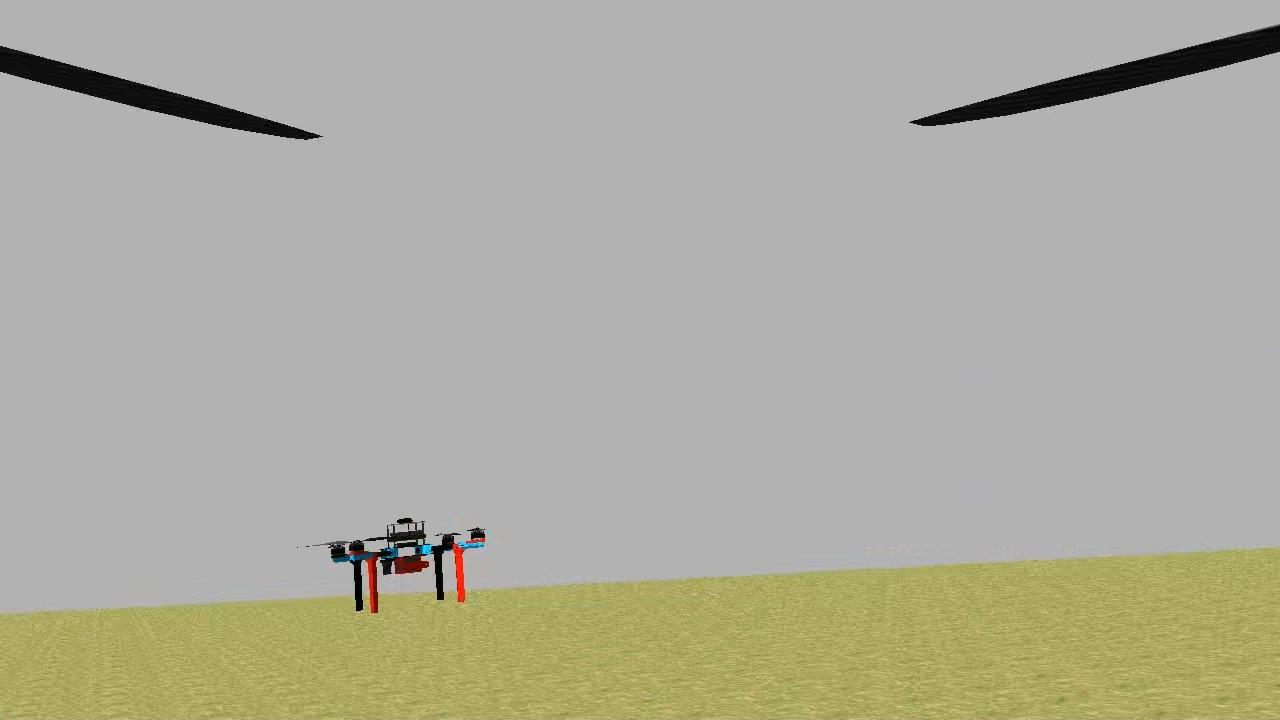UAV: (323, 510, 488, 620)
